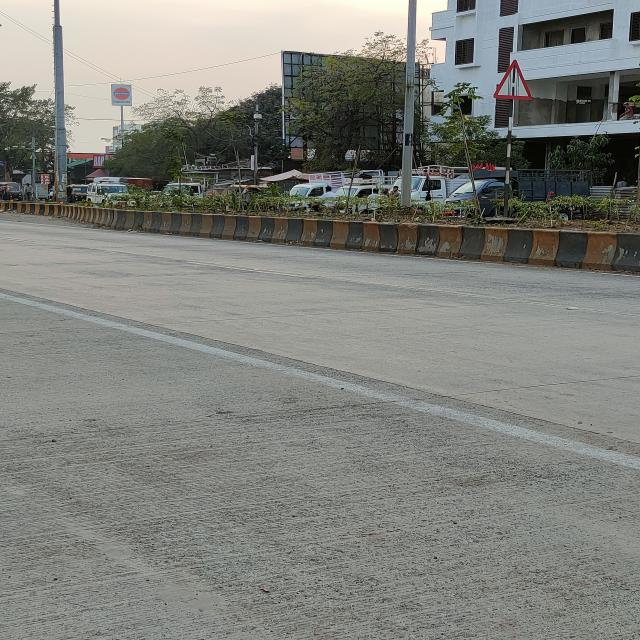GAP_IN_MEDIAN: (493, 58, 533, 100)
